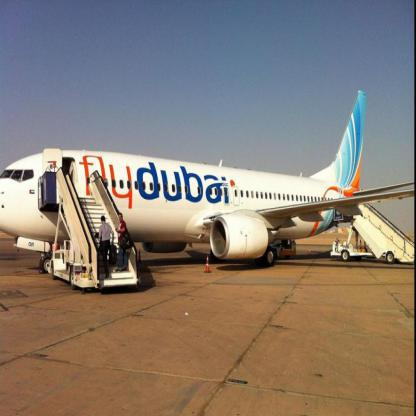CIV_Plane: (3, 88, 414, 316)
